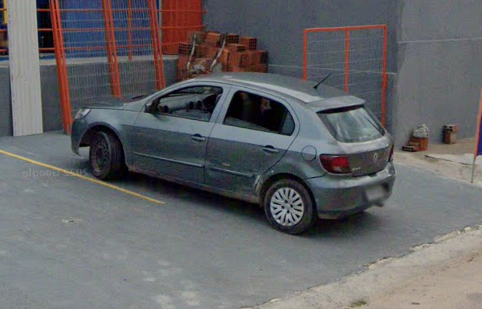car: (66, 63, 403, 238)
